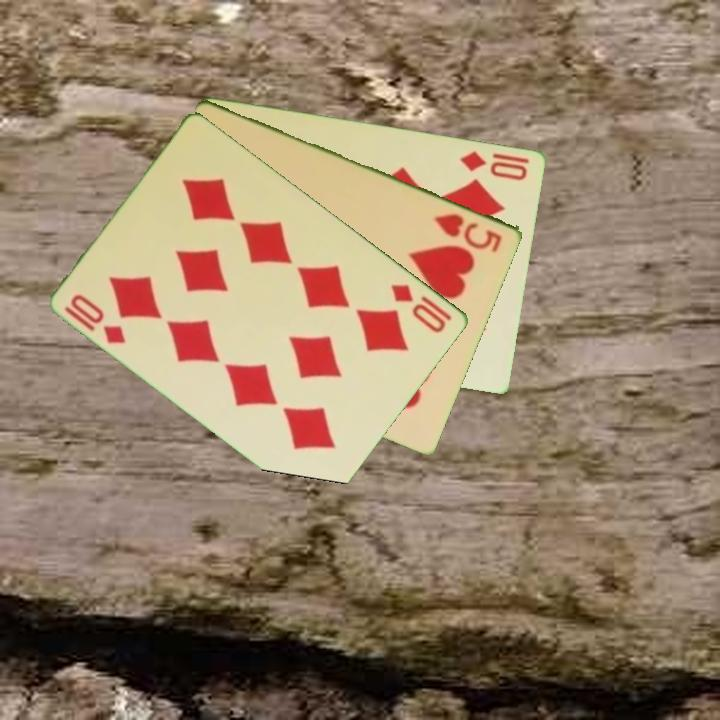10d: (387, 280, 456, 337), (61, 290, 129, 347), (457, 147, 531, 183)
5h: (431, 209, 506, 255)
